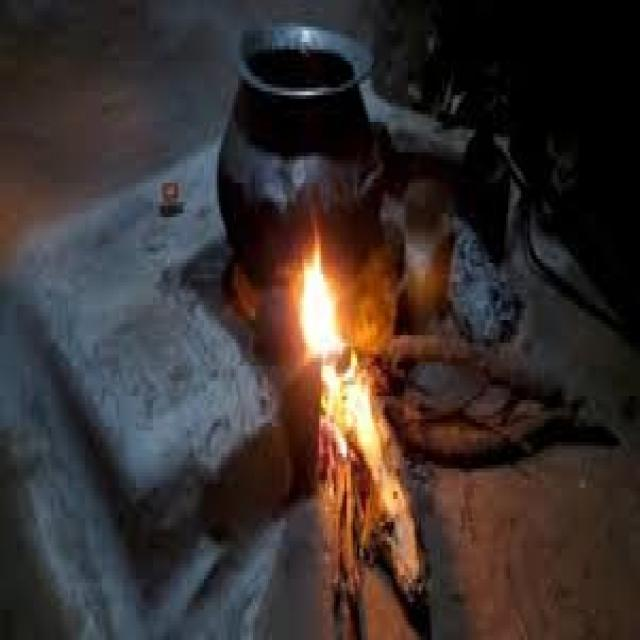fire: (364, 403, 419, 588), (292, 225, 343, 364), (320, 358, 372, 448)
